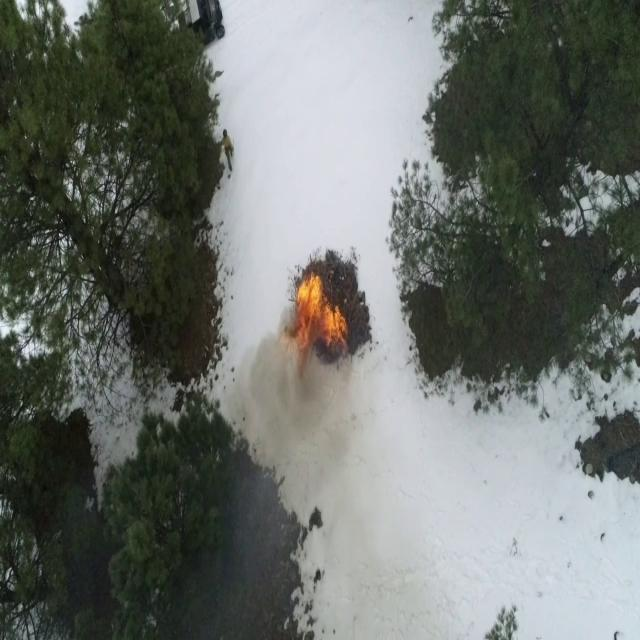fire: (295, 277, 345, 363)
